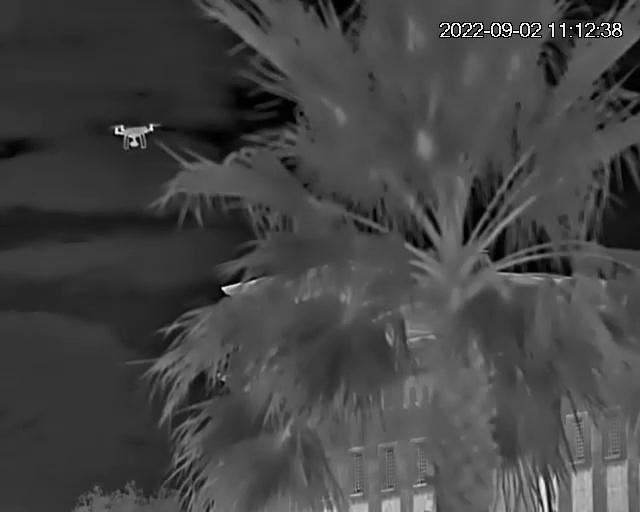DJI-Phantom: (109, 119, 161, 152)
